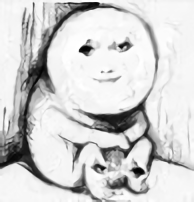dragon: (78, 37, 135, 85)
